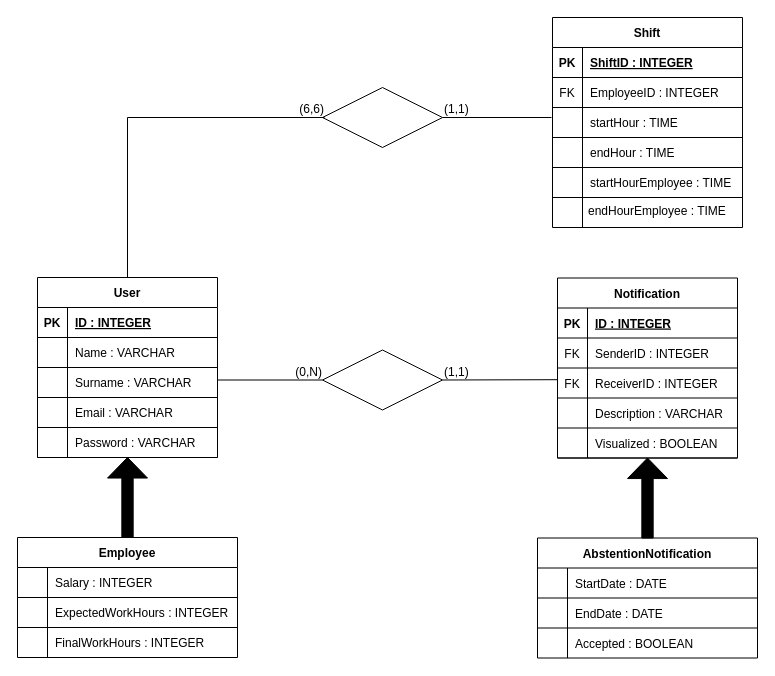
Some shapes in this 775 by 676 pixel diagram are drawn without their labels. Here are the shapes that lost their labels. From the top down, the centre of each, then its label:
[382,117]: Attend
[382,379]: Receives
